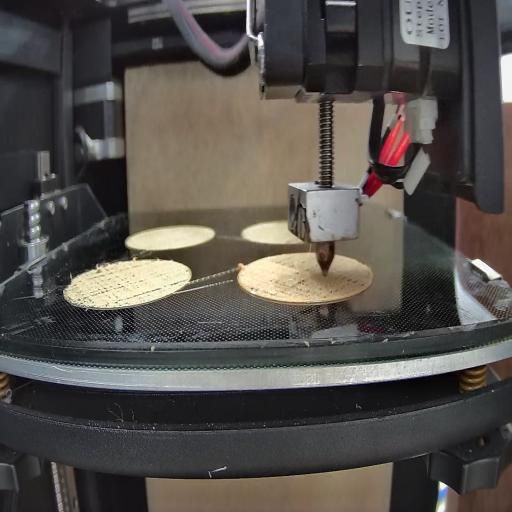under_extrusion: (70, 266, 160, 308), (251, 272, 370, 302), (270, 255, 313, 269), (165, 274, 190, 291)
